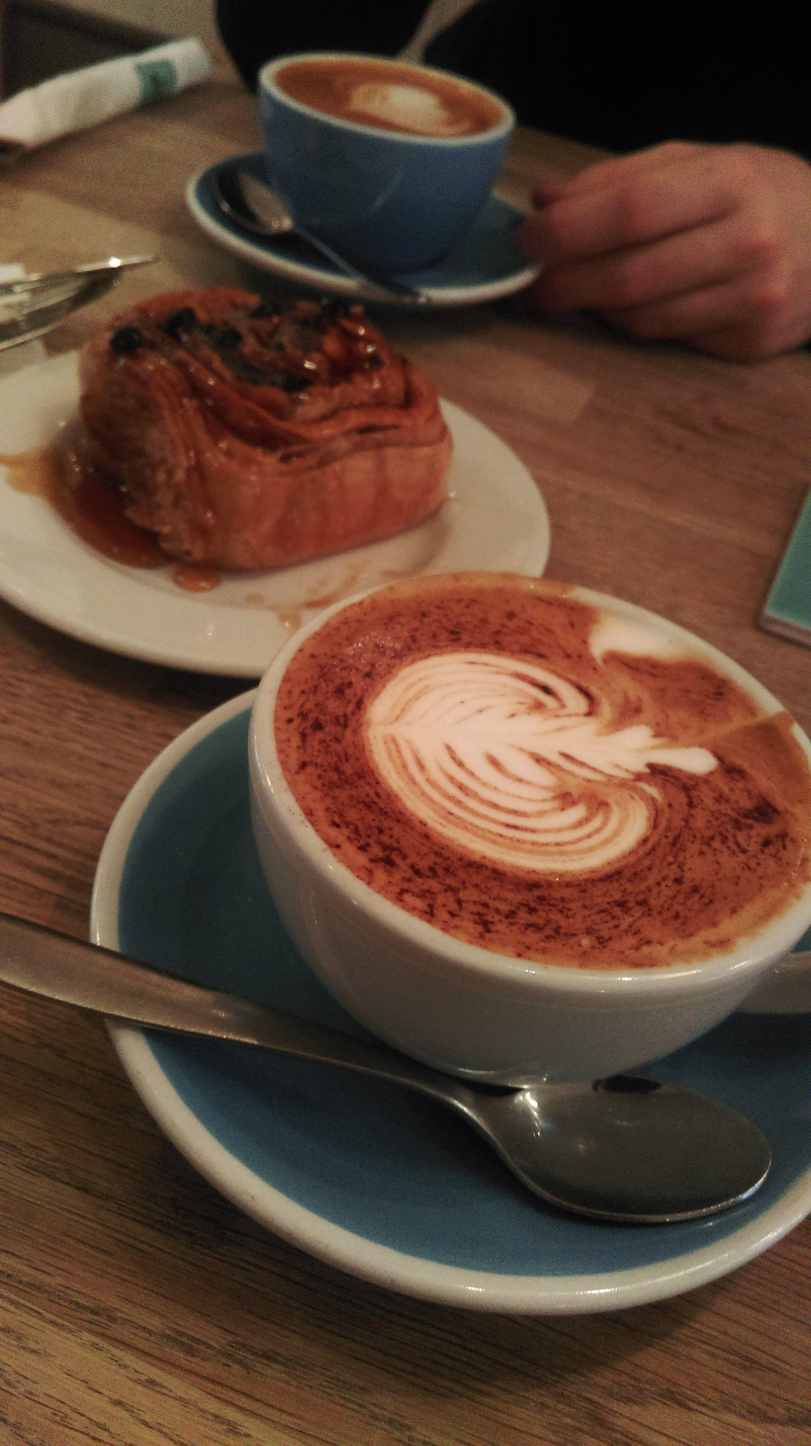cup-handle: (240, 565, 806, 1100), (252, 50, 517, 277)
